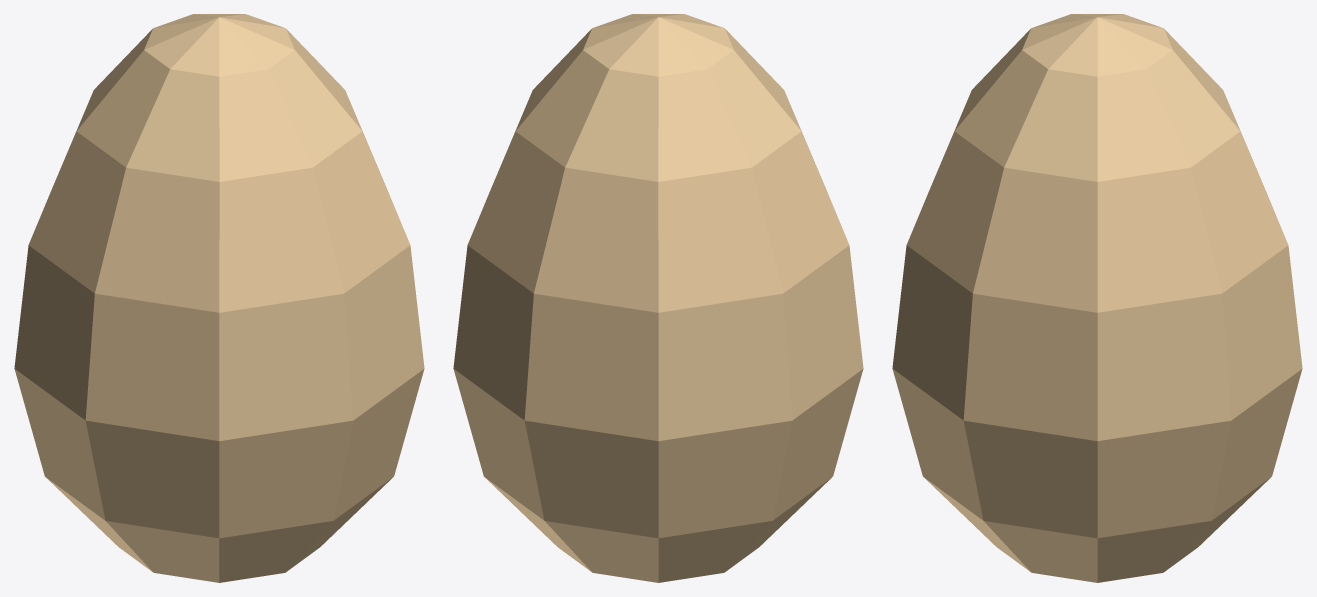
The model's file is Food_Egg.obj.
The picture shows the model from 3 angles, left to right: view 1: azimuth 30°, elevation 25°; view 2: azimuth 150°, elevation 25°; view 3: azimuth 270°, elevation 25°; orthographic projection.
Bounding box in the file's own units: 1.66 × 2.5 × 1.69.
